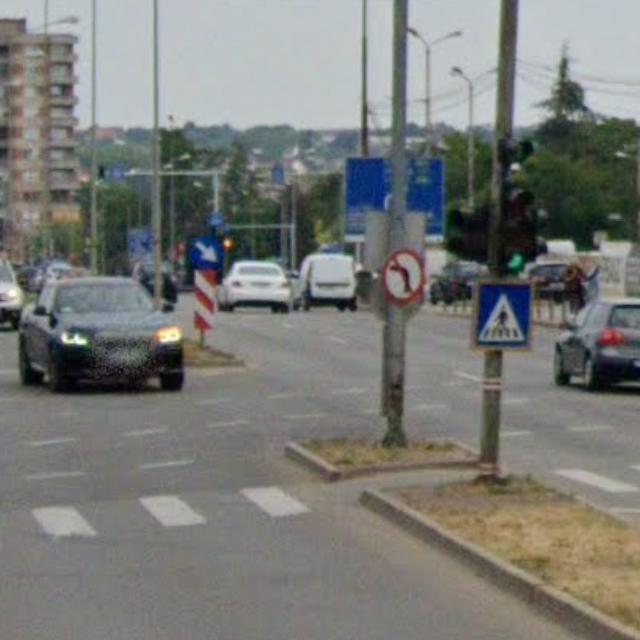info_crosswalk: (473, 281, 534, 350)
